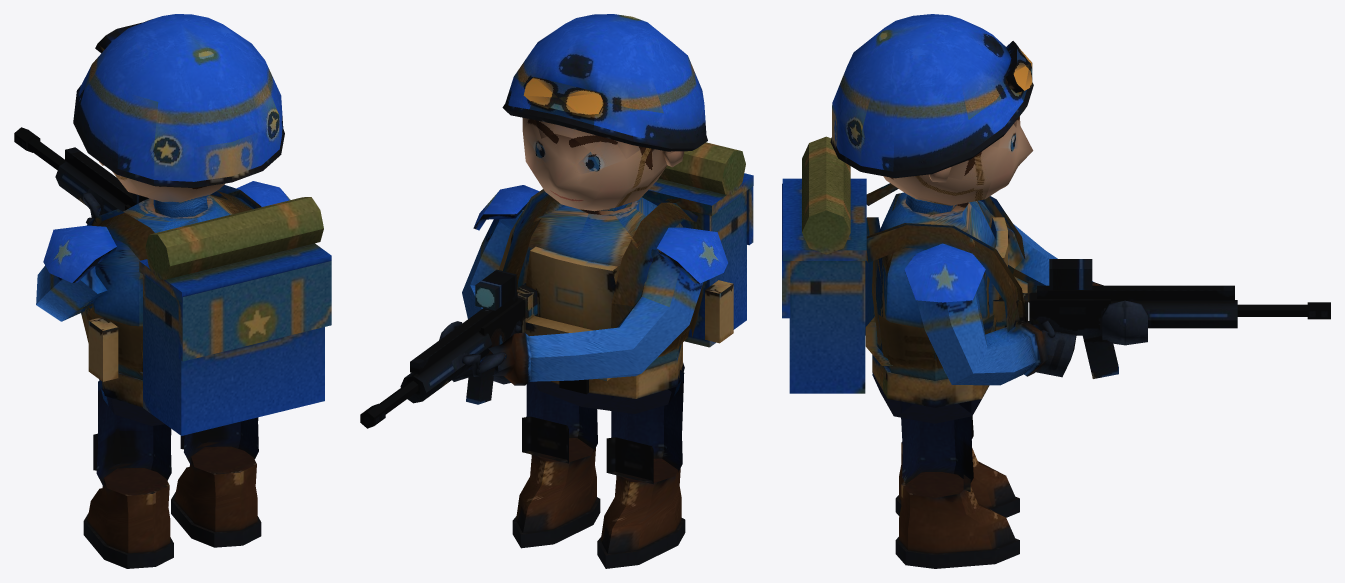
The model's file is hero_lo.glb.
The picture shows the model from 3 angles, left to right: view 1: azimuth 30°, elevation 25°; view 2: azimuth 150°, elevation 25°; view 3: azimuth 270°, elevation 25°; orthographic projection. The views are drawn at different scales.
Visible parts, largest first — view 1: body, leg_L, leg_R; view 2: body, leg_L, leg_R; view 3: body, leg_R, leg_L.
Part boxes in pixels (x1=…): body: x1=14, y1=14, x2=331, y2=435; leg_L: x1=83, y1=380, x2=173, y2=568; leg_R: x1=171, y1=417, x2=261, y2=547; body: x1=360, y1=14, x2=753, y2=428; leg_L: x1=597, y1=370, x2=685, y2=568; leg_R: x1=512, y1=381, x2=600, y2=548; body: x1=782, y1=14, x2=1330, y2=423; leg_R: x1=895, y1=401, x2=1019, y2=568; leg_L: x1=895, y1=416, x2=1019, y2=517.
Size of the model in its own units: 0.4951 by 0.967 by 0.943.
Materials: 1 (1 with a texture image).
